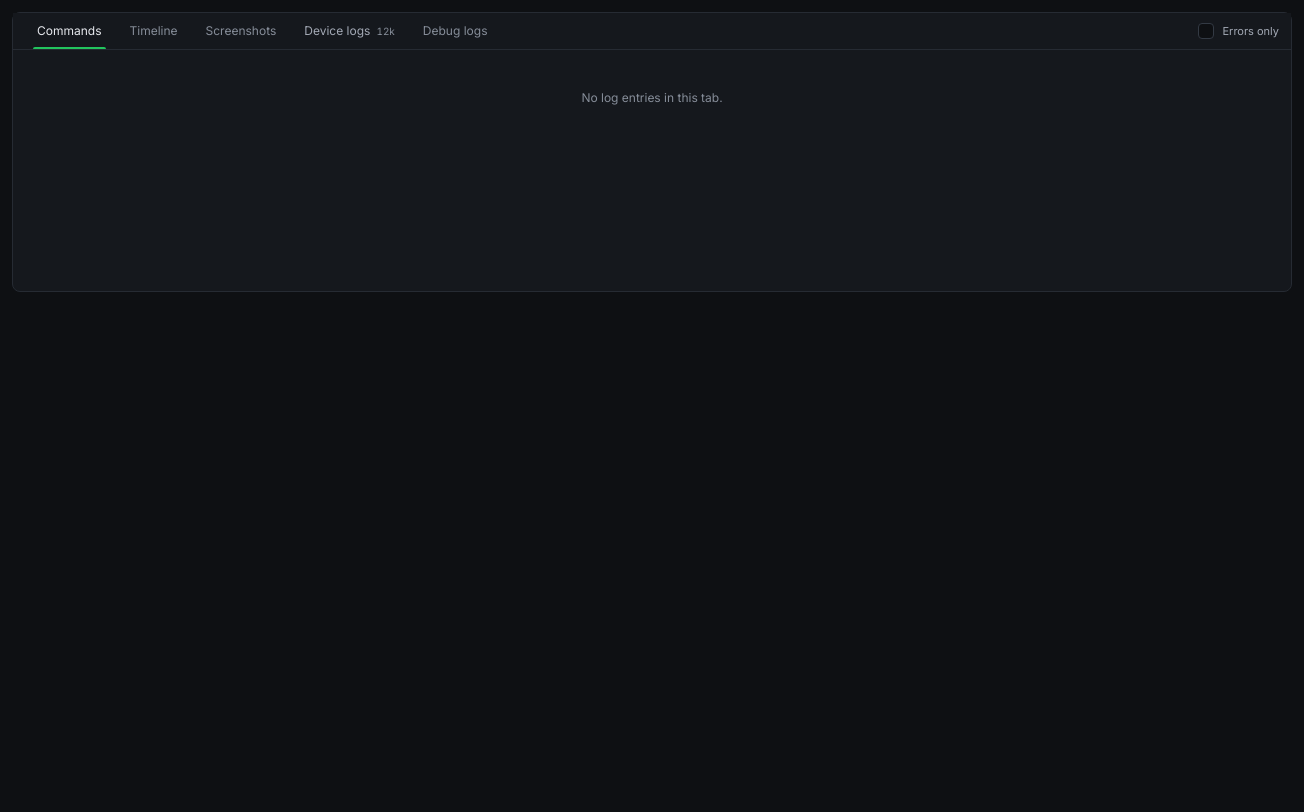
Test: LogViewer: a long Device logs tab › draws the rows on screen, not all 12,002
Click the button "Device logs 12k" at coordinates (350, 31), box [292, 13, 407, 49]
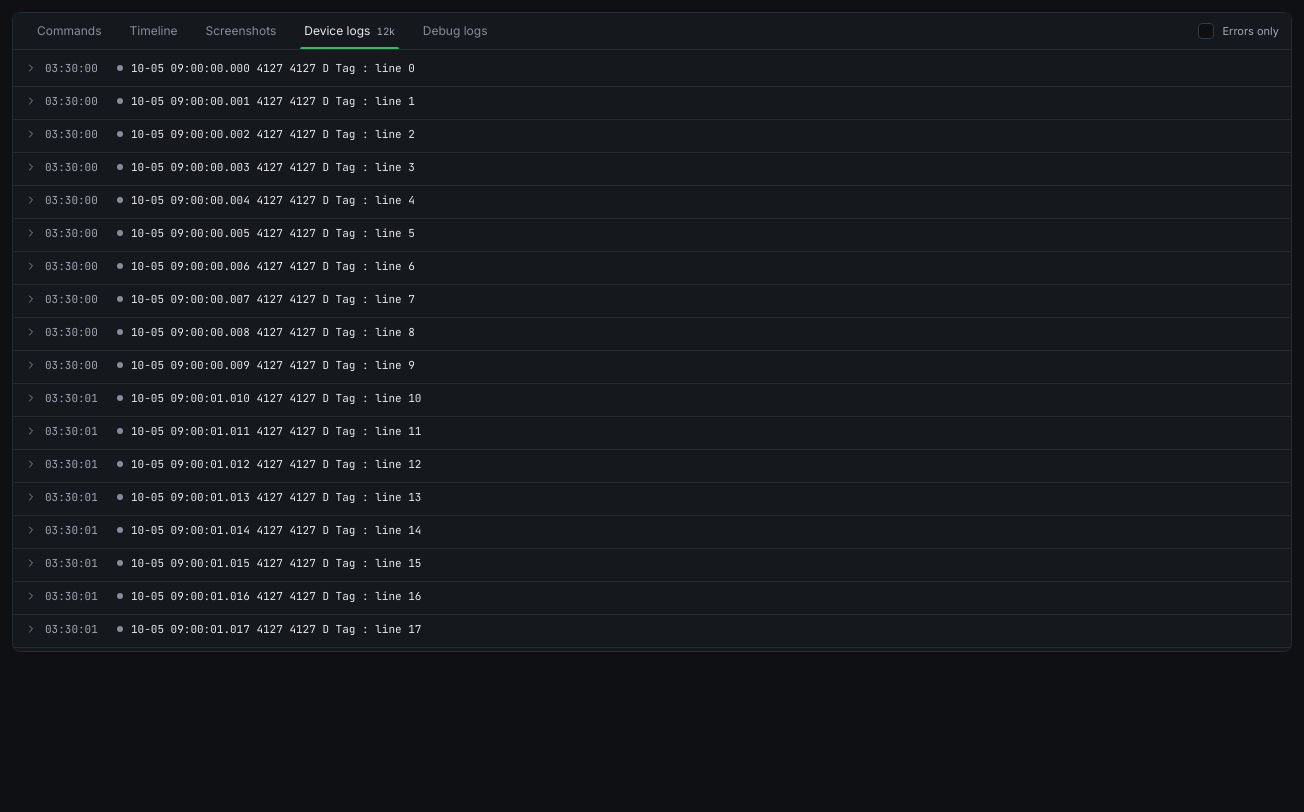
Expected: the element showing "03:30:00 10-05 09:00:00.000 4127 4127 D Tag : line 0" is shown, [13, 50, 1291, 87]
